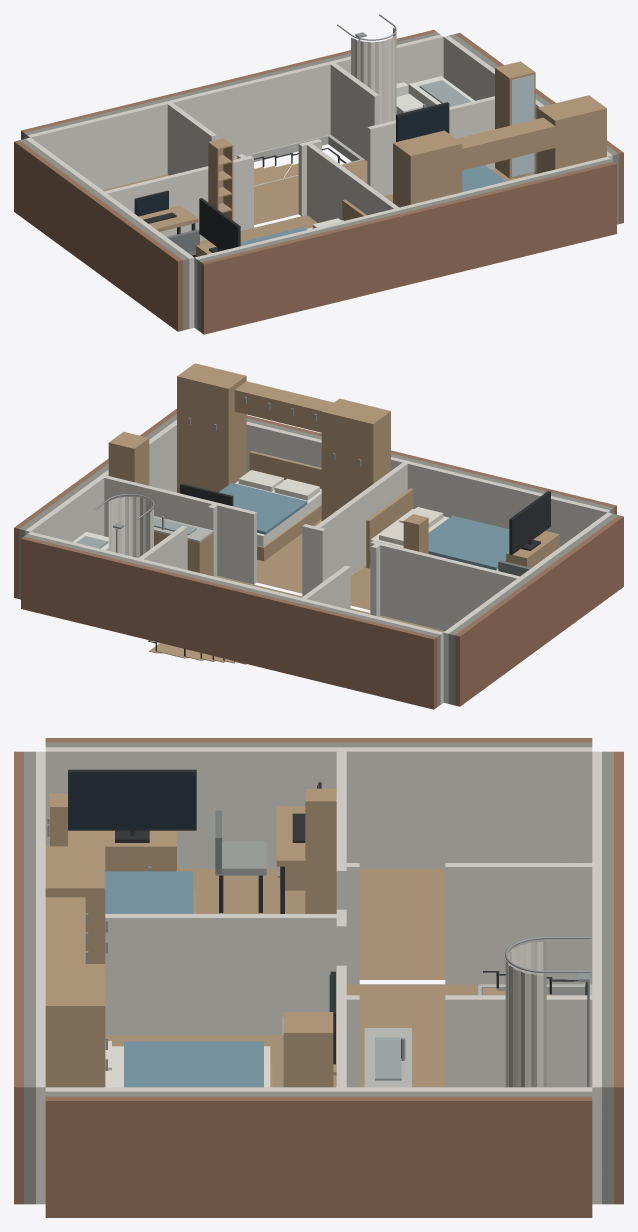
The model's file is upper.glb.
3 views of the same model, one above another, from view 1: azimuth 30°, elevation 25°; view 2: azimuth 150°, elevation 25°; view 3: azimuth 270°, elevation 25° (orthographic). The views are drawn at different scales.
Visible parts, largest first — view 1: wall__upper__0__2, wall__upper__2__0, wall__upper__1__2, furniture__upper__236__body, wall__upper__5__0, furniture__upper__220__body, wall__upper__4__0, wall__upper__7__0, wall__upper__11__0, furniture__upper__903__curtain, wall__upper__9__0, wall__upper__3__0 (+27 smaller); view 2: wall__upper__2__2, wall__upper__1__2, wall__upper__0__0, furniture__upper__220__body, wall__upper__5__0, furniture__upper__236__body, wall__upper__7__0, wall__upper__3__0, wall__upper__4__0, furniture__upper__244__blanket, furniture__upper__903__curtain, furniture__upper__239__blanket (+29 smaller); view 3: wall__upper__3__2, wall__upper__1__0, wall__upper__4__0, wall__upper__9__0, wall__upper__11__0, room__office, furniture__upper__220__body, furniture__upper__253__screen, room__landing, furniture__upper__239__blanket, furniture__upper__903__curtain, wall__upper__0__1 (+30 smaller).
Boxes of the visible parts, x1,y1,x2,y2 form: wall__upper__0__2: (201,161,616,334); wall__upper__2__0: (27,34,443,189); wall__upper__1__2: (14,140,182,331); furniture__upper__236__body: (393,130,462,207); wall__upper__5__0: (104,155,253,240); furniture__upper__220__body: (537,95,606,173); wall__upper__4__0: (305,142,398,222); wall__upper__7__0: (367,96,495,196); wall__upper__11__0: (330,63,379,160); furniture__upper__903__curtain: (351,27,396,123); wall__upper__9__0: (167,103,216,175); wall__upper__3__0: (443,35,612,174); wall__upper__2__2: (21,536,436,709); wall__upper__1__2: (455,515,623,706); wall__upper__0__0: (246,421,610,546); furniture__upper__220__body: (177,363,246,493); wall__upper__5__0: (370,540,519,630); furniture__upper__236__body: (321,398,390,521); wall__upper__7__0: (104,475,256,584); wall__upper__3__0: (25,420,176,541); wall__upper__4__0: (315,462,407,579); furniture__upper__244__blanket: (428,515,509,570); furniture__upper__903__curtain: (108,496,153,557); furniture__upper__239__blanket: (219,483,307,534); wall__upper__3__2: (45,1096,592,1217); wall__upper__1__0: (45,747,592,868); wall__upper__4__0: (105,914,341,1035); wall__upper__9__0: (445,863,592,984); wall__upper__11__0: (445,995,592,1087); room__office: (359,868,445,979); furniture__upper__220__body: (45,964,105,1087); furniture__upper__253__screen: (70,774,194,828); room__landing: (346,984,478,1087); furniture__upper__239__blanket: (124,1041,263,1087); furniture__upper__903__curtain: (505,941,546,1087); wall__upper__0__1: (24,751,35,1204).
Size of the model in its own units: 8.64 by 2.71 by 6.14.
